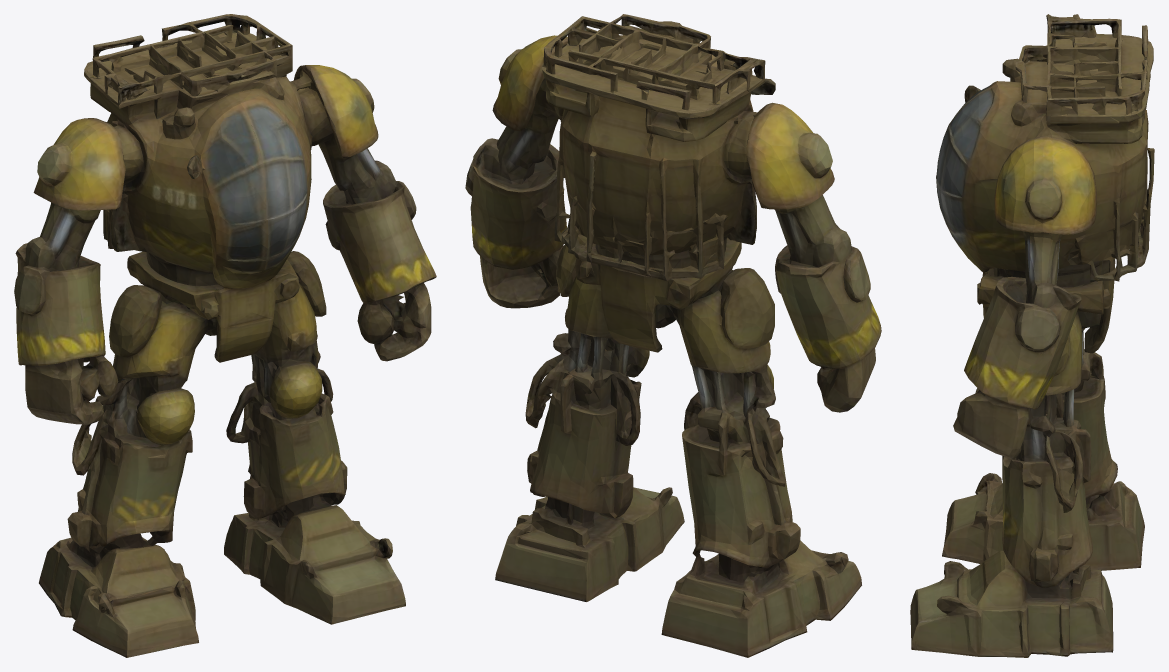
The model's file is mech.glb.
3 renders of one model, left to right at view 1: azimuth 30°, elevation 25°; view 2: azimuth 150°, elevation 25°; view 3: azimuth 270°, elevation 25°, orthographic. The views are drawn at different scales.
Visible parts, largest first — view 1: geometry_0; view 2: geometry_0; view 3: geometry_0.
Boxes of the visible parts, <box> form: geometry_0: <box>14,14,436,657</box>; geometry_0: <box>465,14,881,657</box>; geometry_0: <box>910,14,1154,657</box>.
Size of the model in its own units: 0.7838 by 0.9996 by 0.4181.
Materials: 1 (1 with a texture image).
